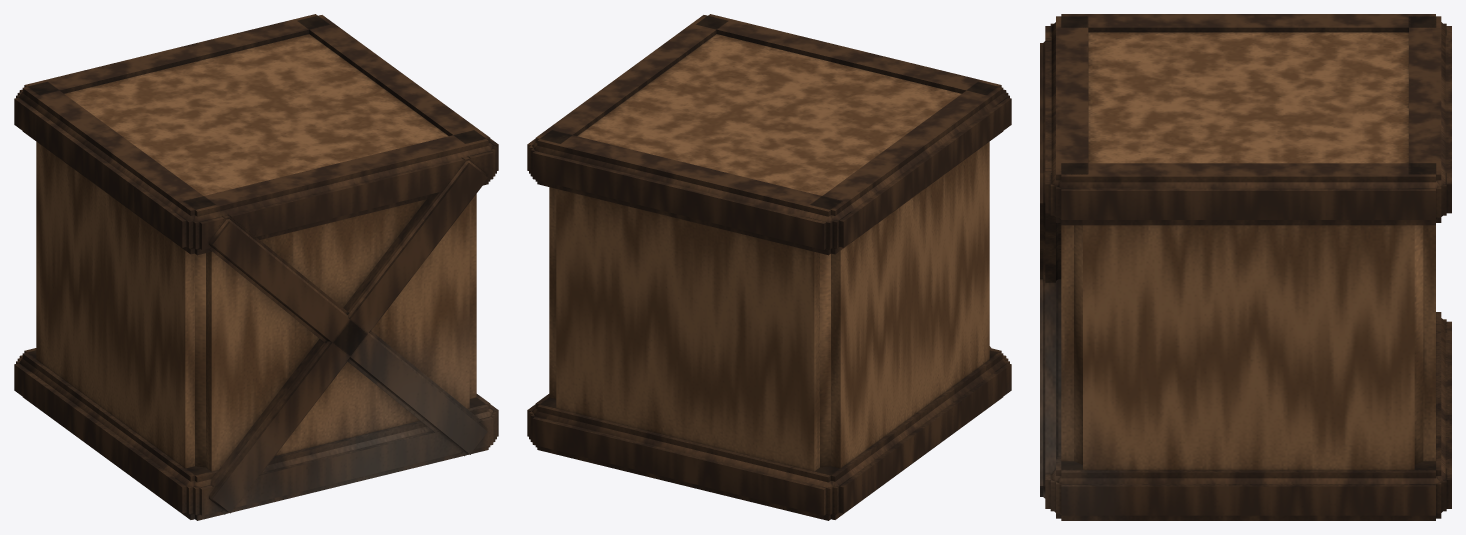
Rendered from cenario_caixote.glb.
3 renders of one model, left to right at view 1: azimuth 30°, elevation 25°; view 2: azimuth 150°, elevation 25°; view 3: azimuth 270°, elevation 25°, orthographic. The views are drawn at different scales.
Visible parts, largest first — view 1: cenario_caixote; view 2: cenario_caixote; view 3: cenario_caixote.
Boxes of the visible parts, x1,y1,x2,y2 form: cenario_caixote: (14,14,498,520); cenario_caixote: (527,14,1011,520); cenario_caixote: (1040,14,1451,520).
Bounding box in the file's own units: 0.76 × 0.71 × 0.77.
1 material, 1 textured.
